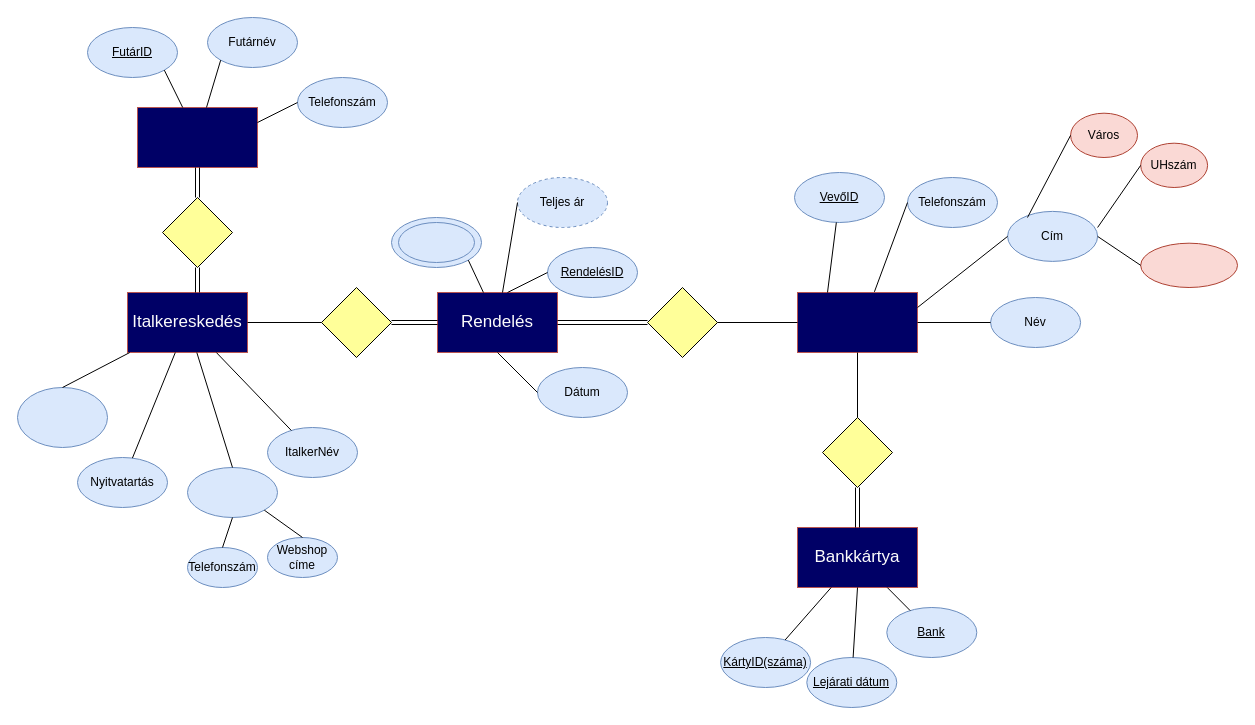
This 1255x725 diagram has some shape labels left out. Here are the shapes that lost their labels. From the top down, the box of each, then its label:
(136, 106, 258, 168): Futár
(162, 196, 232, 268): Munka
(390, 216, 482, 268): Tételek
(1140, 242, 1238, 288): Irányítószám
(320, 286, 392, 358): Előkészítés
(646, 286, 718, 358): Kiszállítás
(796, 292, 918, 352): Vevő
(16, 386, 108, 448): ItalkereskedésID
(822, 416, 892, 488): Fizetés
(186, 466, 278, 518): Elérhetőség
